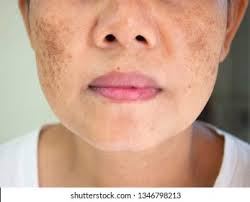darkspot: (178, 7, 219, 81), (38, 16, 74, 93)
